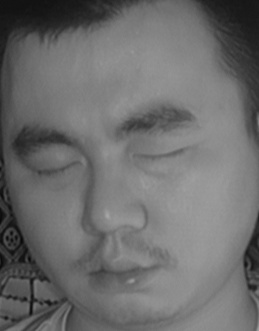blink: (133, 137, 192, 181), (32, 150, 85, 188)
mouth: (82, 247, 158, 299)
